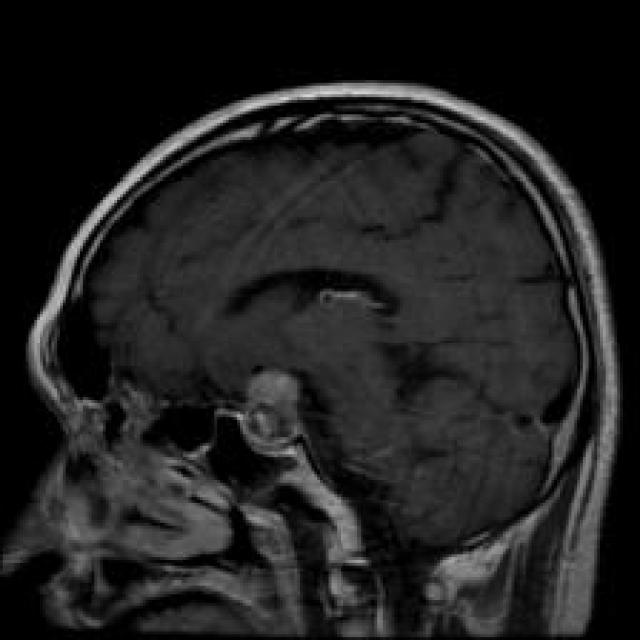pituitary_tumor: (220, 348, 317, 473)
